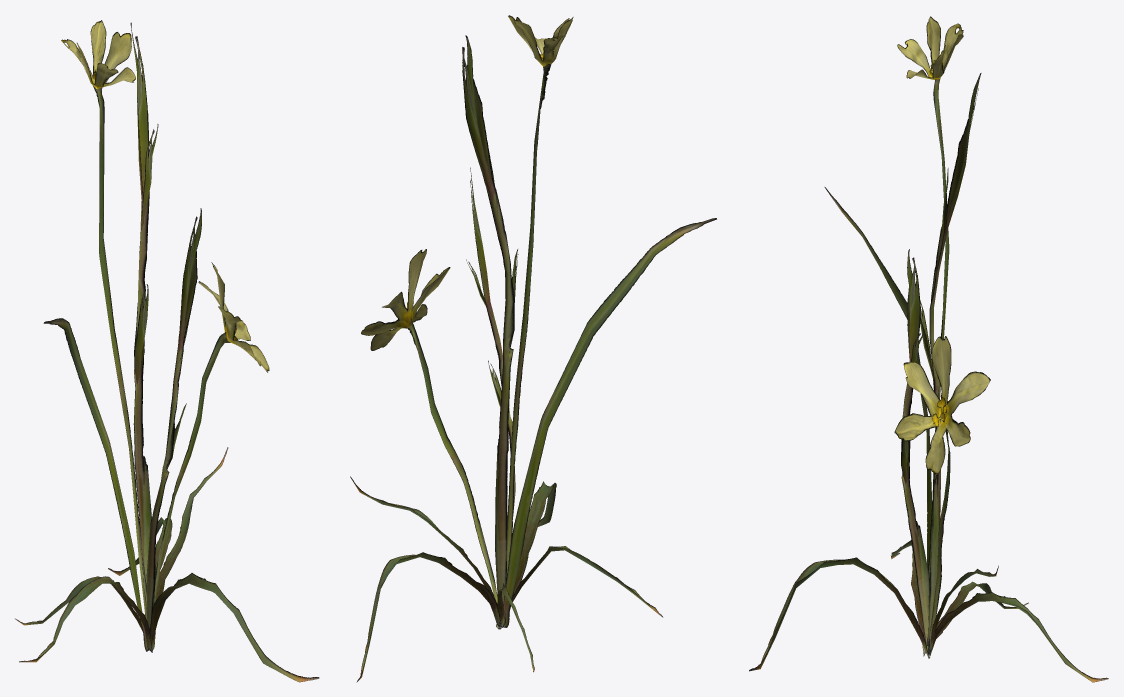
Rendered from flower_empodium_b.fbx.
The picture shows the model from 3 angles, left to right: view 1: azimuth 30°, elevation 25°; view 2: azimuth 150°, elevation 25°; view 3: azimuth 270°, elevation 25°; orthographic projection. The views are drawn at different scales.
Parts seen in each view (by area): view 1: flower_empodium_b; view 2: flower_empodium_b; view 3: flower_empodium_b.
Part boxes in pixels (x1,y1,x2,y2): flower_empodium_b: (15, 20, 319, 682); flower_empodium_b: (350, 15, 716, 682); flower_empodium_b: (749, 16, 1108, 682).
Bounding box in the file's own units: 0.1815 × 0.38 × 0.2047.
Materials: 1 (1 with a texture image).
